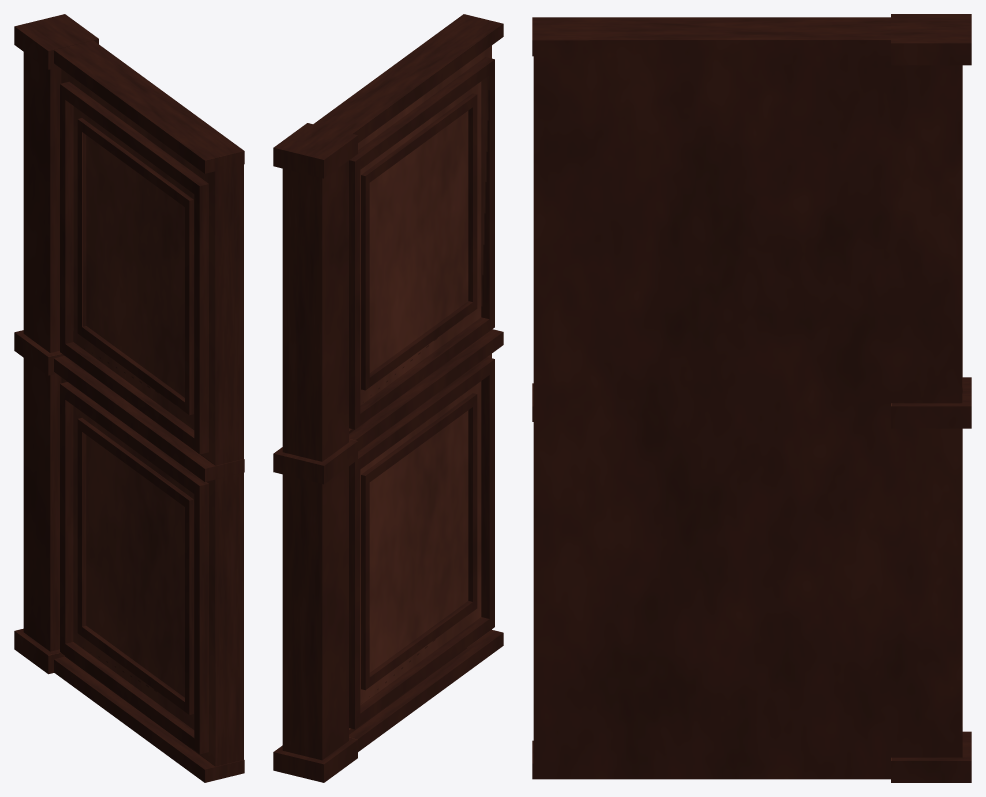
Rendered from leftWallDouble.glb.
3 views of the same model, side by side, from view 1: azimuth 30°, elevation 25°; view 2: azimuth 150°, elevation 25°; view 3: azimuth 270°, elevation 25° (orthographic). The views are drawn at different scales.
Visible parts, largest first — view 1: leftWallDouble_V5_TEMP; view 2: leftWallDouble_V5_TEMP; view 3: leftWallDouble_V5_TEMP.
Part boxes in pixels (x1,y1,x2,y2): leftWallDouble_V5_TEMP: (14, 14, 244, 782); leftWallDouble_V5_TEMP: (273, 14, 503, 782); leftWallDouble_V5_TEMP: (532, 14, 971, 782).
Bounding box in the file's own units: 2.36 × 27.8 × 14.96.
1 material, 1 textured.
